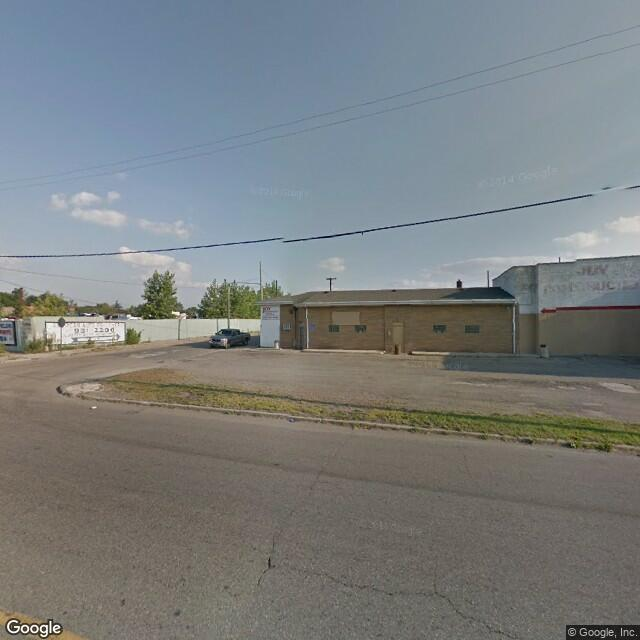litter: (87, 401, 103, 413)
